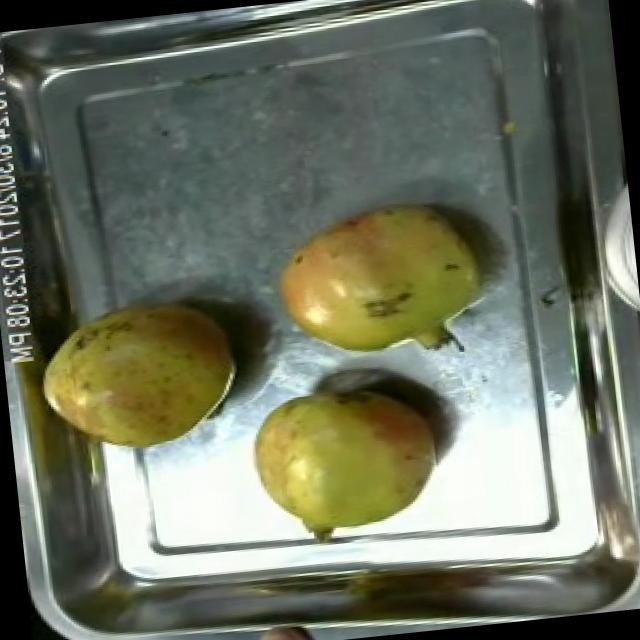fruit: (257, 186, 503, 377), (23, 282, 255, 466), (235, 370, 457, 550)
